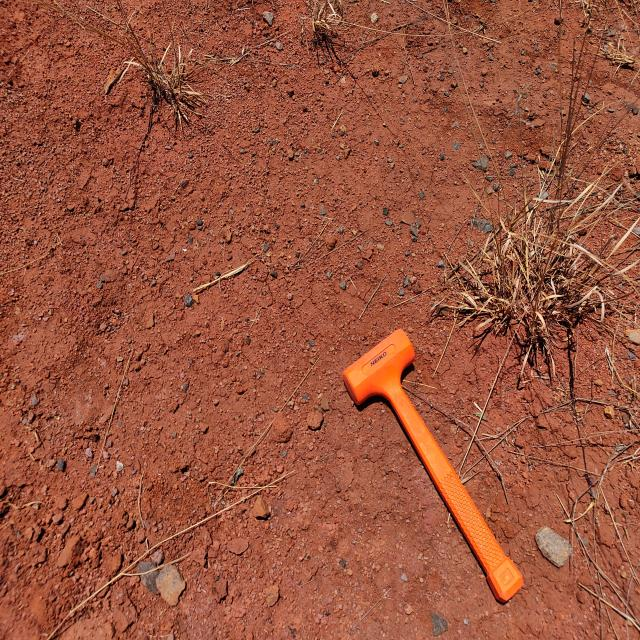Orange_hammer: (342, 327, 524, 604)
